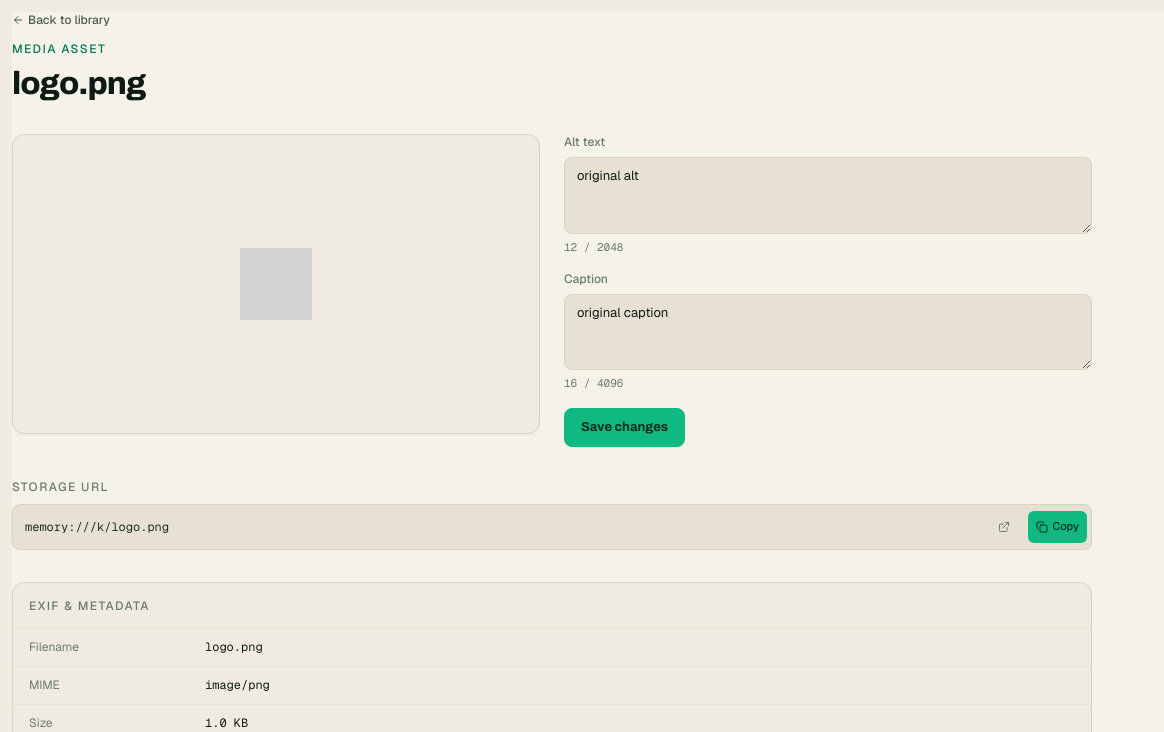
Test case: MediaDetailClient › saves alt-text changes via PATCH
Replace the text in the text box with test id "alt-text-input" with "new alt" at (828, 195), box [564,157,1092,234]
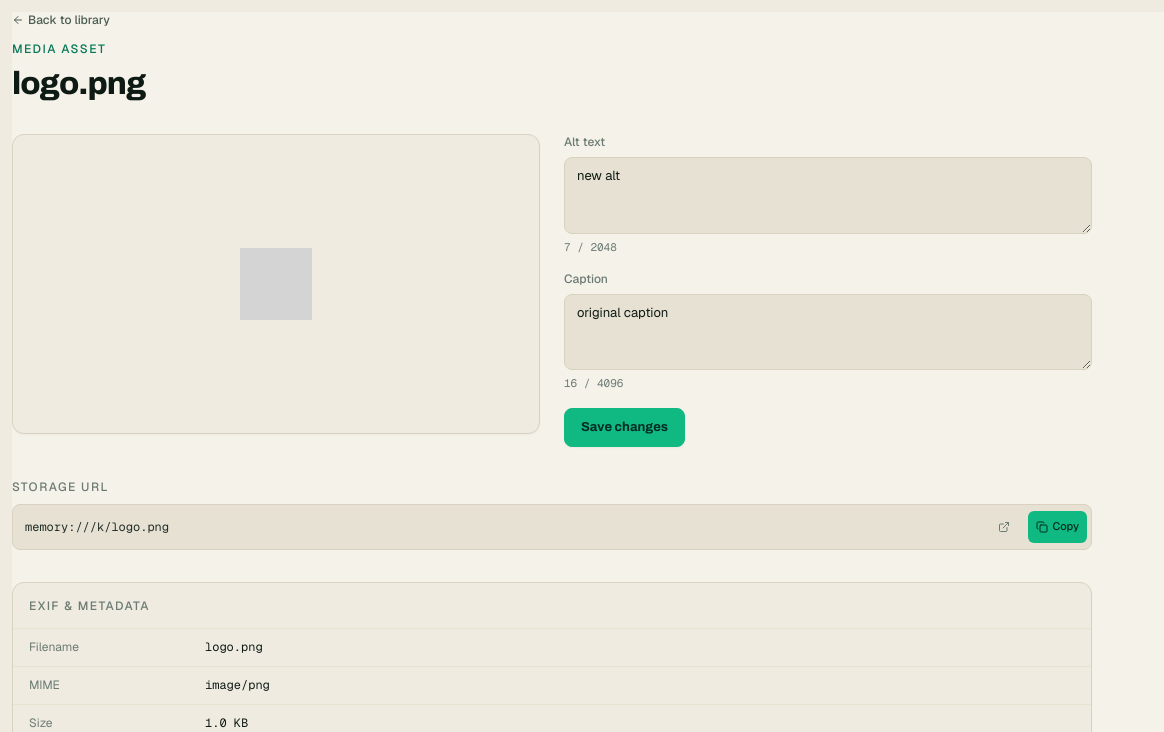
Click the button with test id "save-button" at (624, 428), box [564,408,685,447]
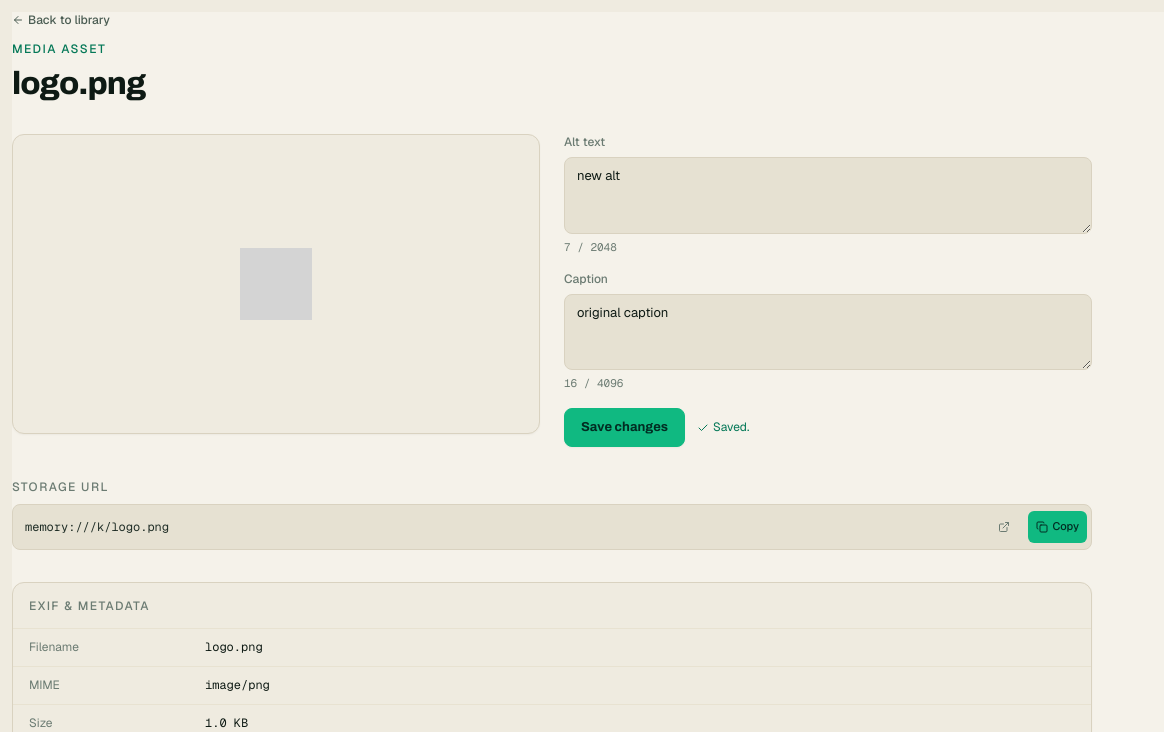
Check: the element with test id "save-confirmation" is shown, box [697,419,749,436]
